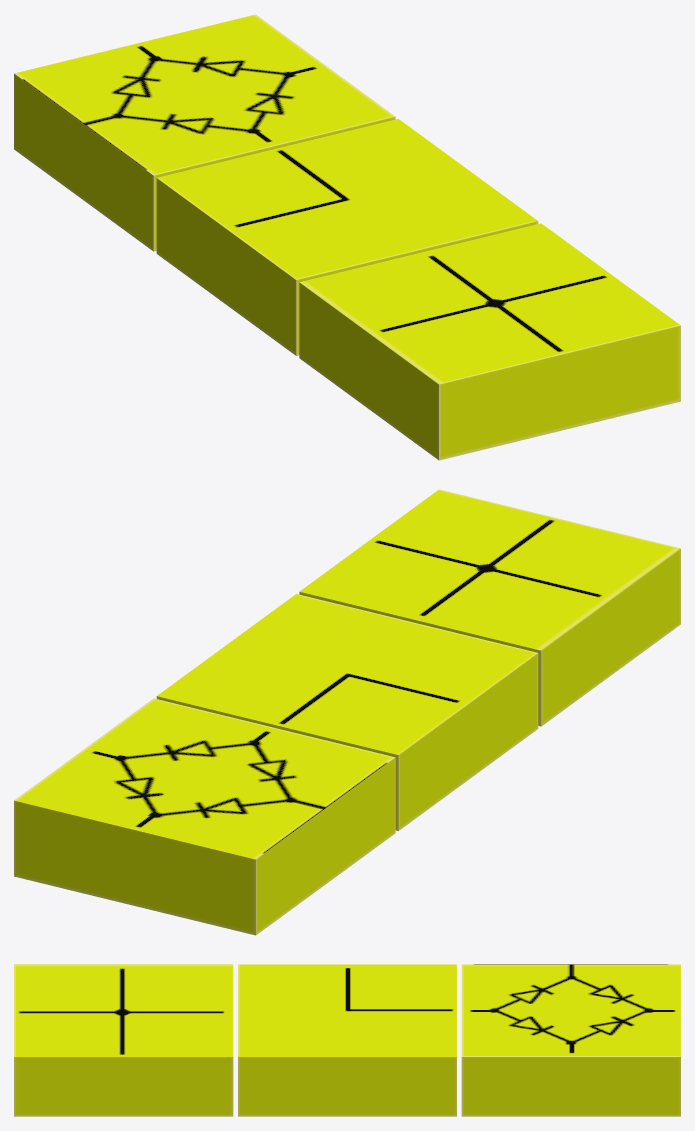
Rendered from Electro08_3.FBX.
3 renders of one model, top to bottom at view 1: azimuth 30°, elevation 25°; view 2: azimuth 150°, elevation 25°; view 3: azimuth 270°, elevation 25°, orthographic. The views are drawn at different scales.
Visible parts, largest first — view 1: Box003; view 2: Box003; view 3: Box003.
Boxes of the visible parts, <box> form: Box003: <box>14,14,680,460</box>; Box003: <box>14,489,680,935</box>; Box003: <box>14,964,680,1116</box>.
Size of the model in its own units: 19.69 by 5.91 by 59.9.
